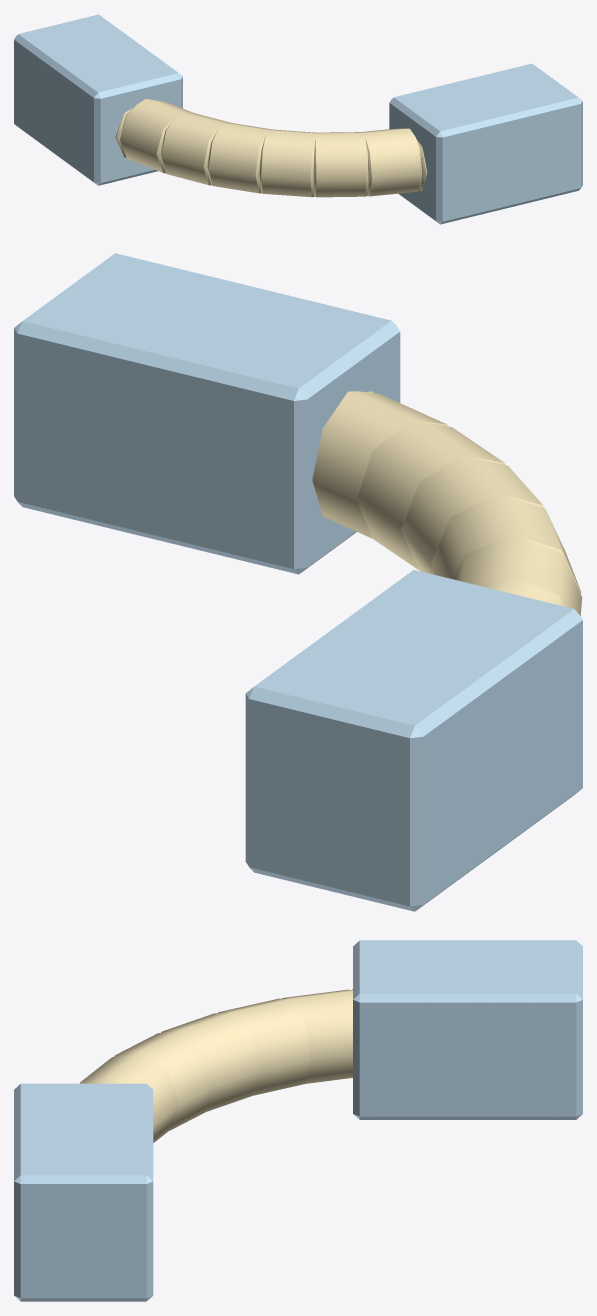
The model's file is R4C_ROD_ARC_SHORT_LOD1.glb.
3 views of the same model, one above another, from view 1: azimuth 30°, elevation 25°; view 2: azimuth 150°, elevation 25°; view 3: azimuth 270°, elevation 25° (orthographic). The views are drawn at different scales.
Parts seen in each view (by area): view 1: R4C_ROD_ARC_SHORT_LOD1; view 2: R4C_ROD_ARC_SHORT_LOD1; view 3: R4C_ROD_ARC_SHORT_LOD1.
Boxes of the visible parts, x1,y1,x2,y2 form: R4C_ROD_ARC_SHORT_LOD1: (14,14,582,224); R4C_ROD_ARC_SHORT_LOD1: (14,253,582,911); R4C_ROD_ARC_SHORT_LOD1: (14,940,582,1301).
Size of the model in its own units: 0.923 by 0.226 by 0.923.
